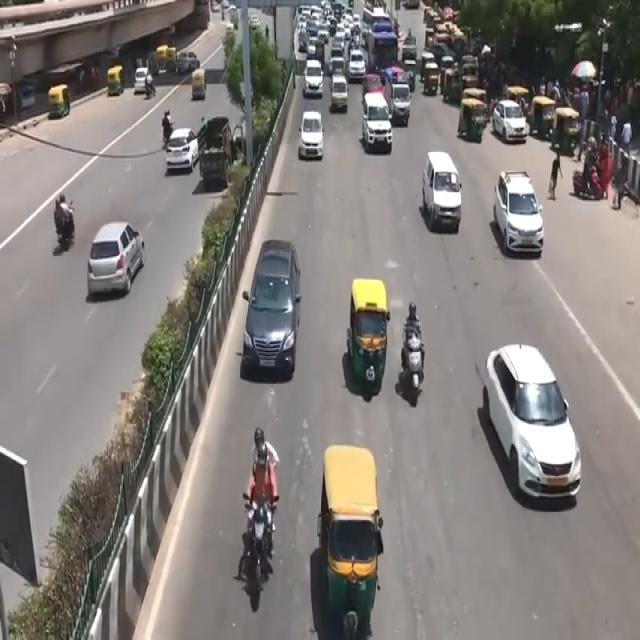MOTORCYCLE: (250, 502, 276, 616), (404, 331, 428, 408), (55, 202, 77, 256)
